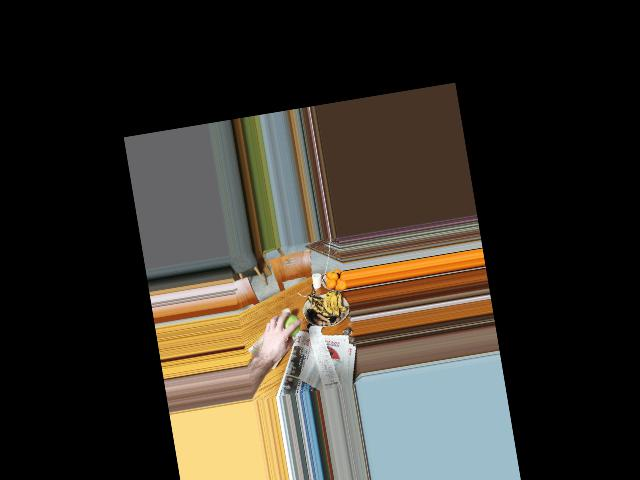apple: (274, 311, 301, 340)
